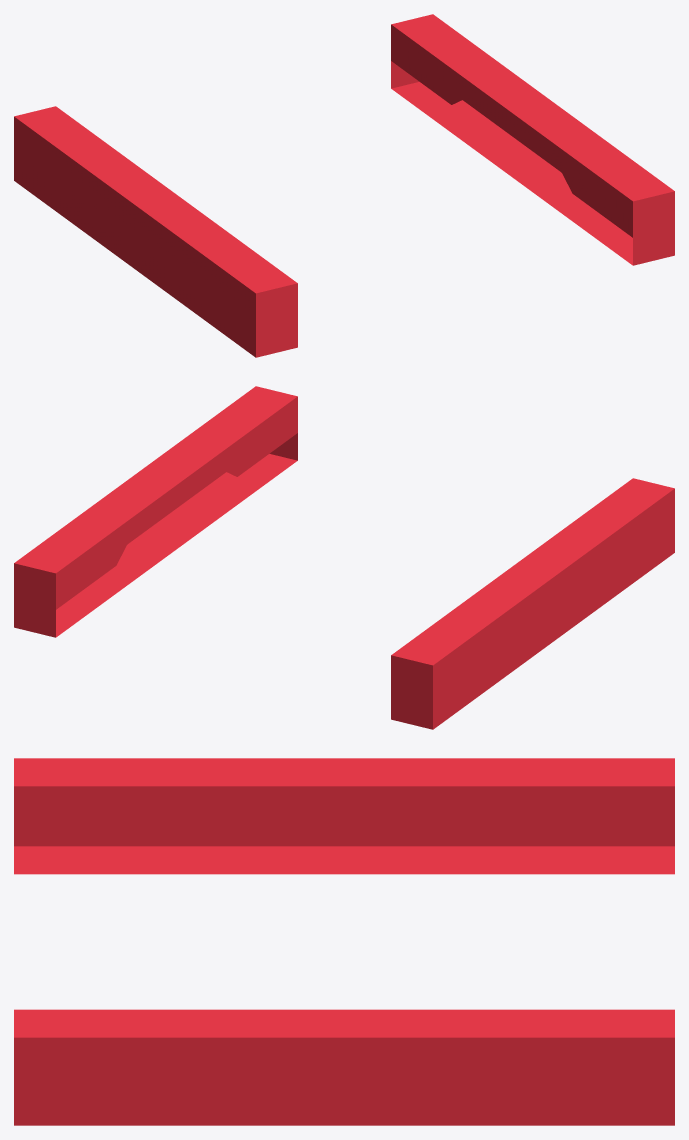
The model's file is HillSquare (Wall).fbx.
3 renders of one model, top to bottom at view 1: azimuth 30°, elevation 25°; view 2: azimuth 150°, elevation 25°; view 3: azimuth 270°, elevation 25°, orthographic. The views are drawn at different scales.
Parts seen in each view (by area): view 1: hillSquare001; view 2: hillSquare001; view 3: hillSquare001.
Part boxes in pixels (x1,y1,x2,y2): hillSquare001: (14, 14, 674, 357); hillSquare001: (14, 386, 674, 729); hillSquare001: (14, 758, 674, 1125).
Size of the model in its own units: 39.37 by 5.77 by 39.37.
